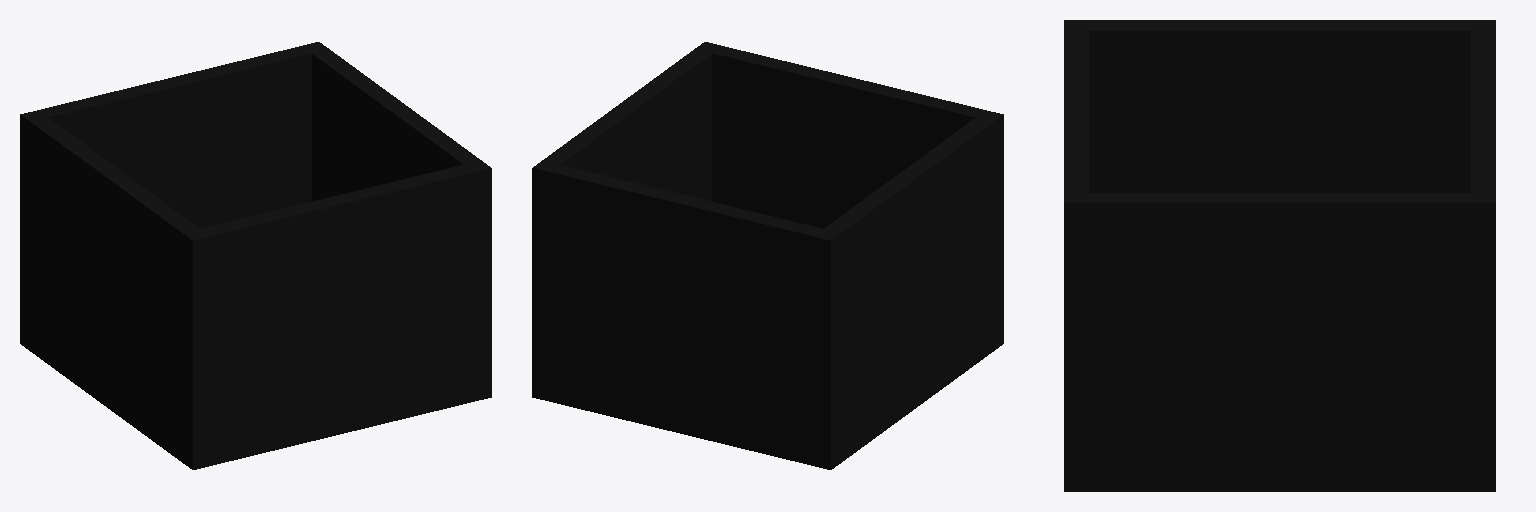
robot.urdf — box_dark:
<?xml version="1.0"?>
<robot name="box_dark">
  
  <!-- Bottom of the box -->
  <link name="box_bottom">
    <visual>
      <geometry>
        <box size="0.3 0.3 0.02"/>  <!-- 30cm x 30cm, 2cm thick -->
      </geometry>
      <origin xyz="0 0 0.01"/>
      <material name="gray">
        <color rgba="0.1 0.1 0.1 1"/>
      </material>
    </visual>
    
    <collision>
      <geometry>
        <box size="0.3 0.3 0.02"/>  <!-- 30cm x 30cm collision box -->
      </geometry>
      <origin xyz="0 0 0.01"/>
    </collision>
  </link>

  <!-- Walls of the box -->

  <!-- Front Wall -->
  <link name="box_wall_front">
    <visual>
      <geometry>
        <box size="0.3 0.02 0.25"/>  <!-- Wall thickness 2cm, 30cm height -->
      </geometry>
      <origin xyz="0 0.16 0.125"/>
      <material name="gray">
        <color rgba="0.1 0.1 0.1 1"/>
      </material>
    </visual>
    
    <collision>
      <geometry>
        <box size="0.3 0.02 0.25"/>  <!-- Wall thickness 2cm, 30cm height -->
      </geometry>
      <origin xyz="0 0.16 0.125"/>
    </collision>
  </link>

  <!-- Back Wall -->
  <link name="box_wall_back">
    <visual>
      <geometry>
        <box size="0.3 0.02 0.25"/>
      </geometry>
      <origin xyz="0 -0.16 0.125"/>
      <material name="gray">
        <color rgba="0.1 0.1 0.1 1"/>
      </material>
    </visual>
    
    <collision>
      <geometry>
        <box size="0.3 0.02 0.25"/>
      </geometry>
      <origin xyz="0 -0.16 0.125"/>
    </collision>
  </link>

  <!-- Left Wall -->
  <link name="box_wall_left">
    <visual>
      <geometry>
        <box size="0.02 0.34 0.25"/>  <!-- 2cm thick, 30cm height -->
      </geometry>
      <origin xyz="-0.16 0 0.125"/>
      <material name="gray">
        <color rgba="0.1 0.1 0.1 1"/>
      </material>
    </visual>
    
    <collision>
      <geometry>
        <box size="0.02 0.34 0.25"/>
      </geometry>
      <origin xyz="-0.16 0 0.125"/>
    </collision>
  </link>

  <!-- Right Wall -->
  <link name="box_wall_right">
    <visual>
      <geometry>
        <box size="0.02 0.34 0.25"/>
      </geometry>
      <origin xyz="0.16 0 0.125"/>
      <material name="gray">
        <color rgba="0.1 0.1 0.1 1"/>
      </material>
    </visual>
    
    <collision>
      <geometry>
        <box size="0.02 0.34 0.25"/>
      </geometry>
      <origin xyz="0.16 0 0.125"/>
    </collision>
  </link>

  <!-- Trigger collider on the bottom (for detection) -->


  <!-- Fixed Joints -->
  <joint name="joint_bottom_front" type="fixed">
    <parent link="box_bottom"/>
    <child link="box_wall_front"/>
    <origin xyz="0 0 0"/>
  </joint>

  <joint name="joint_bottom_back" type="fixed">
    <parent link="box_bottom"/>
    <child link="box_wall_back"/>
    <origin xyz="0 0 0"/>
  </joint>

  <joint name="joint_bottom_left" type="fixed">
    <parent link="box_bottom"/>
    <child link="box_wall_left"/>
    <origin xyz="0 0 0"/>
  </joint>

  <joint name="joint_bottom_right" type="fixed">
    <parent link="box_bottom"/>
    <child link="box_wall_right"/>
    <origin xyz="0 0 0"/>
  </joint>

</robot>

--- Render facts (derived) ---
The picture shows the robot from 3 angles, left to right: view 1: azimuth 30°, elevation 25°; view 2: azimuth 150°, elevation 25°; view 3: azimuth 270°, elevation 25°; orthographic projection.
Model box_dark with 5 links and 4 joints (4 fixed), rooted at box_bottom, posed every joint at zero.
Links seen in each view (by area): view 1: box_wall_back, box_wall_left, box_wall_front, box_wall_right; view 2: box_wall_front, box_wall_left, box_wall_back, box_wall_right; view 3: box_wall_right, box_wall_left, box_wall_front, box_wall_back.
Boxes of the visible links, bbox=[...] form: box_wall_back: bbox=[201, 165, 473, 465]; box_wall_left: bbox=[20, 110, 209, 469]; box_wall_front: bbox=[39, 46, 311, 228]; box_wall_right: bbox=[302, 42, 491, 401]; box_wall_front: bbox=[550, 165, 822, 465]; box_wall_left: bbox=[814, 110, 1003, 469]; box_wall_back: bbox=[712, 46, 984, 228]; box_wall_right: bbox=[532, 42, 721, 401]; box_wall_right: bbox=[1064, 193, 1495, 491]; box_wall_left: bbox=[1064, 20, 1495, 192]; box_wall_front: bbox=[1471, 31, 1495, 192]; box_wall_back: bbox=[1064, 31, 1088, 192].
Bounding box of the posed robot: 0.34 × 0.34 × 0.25 m (x, y, z).
Geometry: primitives only (box / cylinder / sphere), no mesh files.
